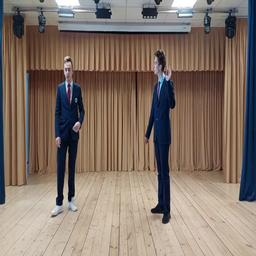person: (144, 50, 176, 223), (54, 57, 85, 215)
